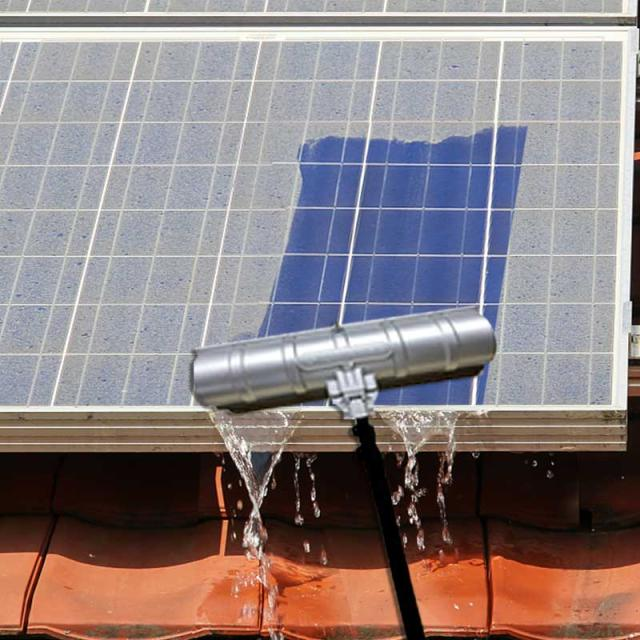clean-solar-panel: (248, 135, 531, 413)
